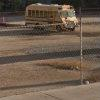Bus: (21, 1, 81, 33)
